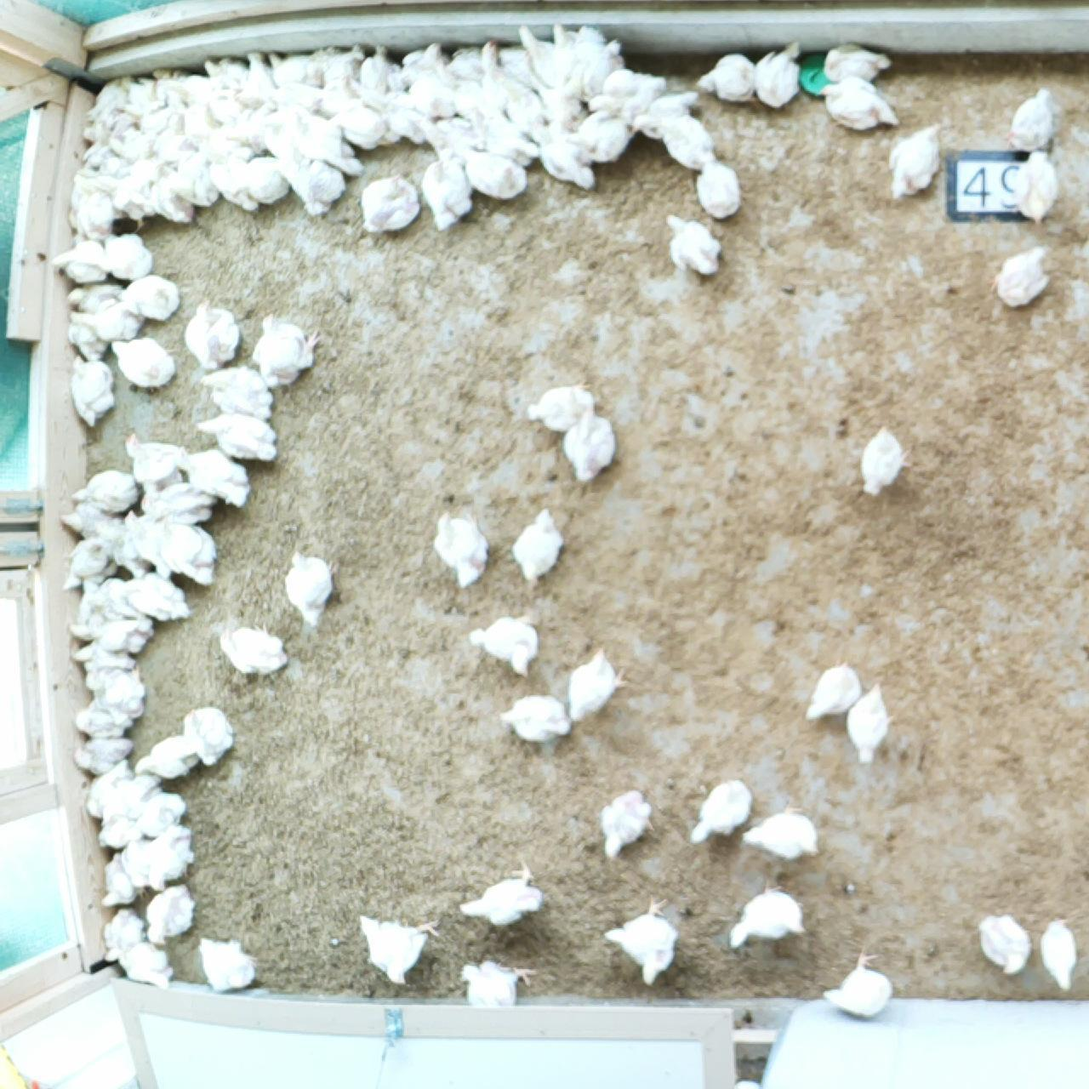chicken: (599, 893, 685, 995), (350, 900, 445, 985), (455, 853, 547, 939), (721, 871, 811, 956), (885, 116, 956, 209), (170, 442, 255, 513), (249, 311, 324, 391), (506, 500, 570, 592), (820, 943, 897, 1019), (465, 607, 542, 682), (683, 774, 760, 848), (430, 507, 496, 592), (567, 644, 634, 727), (741, 800, 826, 863), (596, 782, 659, 862), (583, 66, 669, 124), (282, 547, 344, 627), (818, 74, 902, 133), (531, 122, 596, 198), (421, 144, 475, 235), (212, 614, 292, 675), (199, 361, 275, 425), (457, 952, 542, 1009), (842, 678, 897, 766), (190, 930, 262, 996), (180, 295, 240, 374), (659, 207, 723, 281), (560, 404, 618, 485), (458, 141, 533, 203), (290, 110, 363, 173), (858, 419, 915, 498), (156, 518, 221, 587), (988, 239, 1053, 308), (1010, 144, 1062, 229), (976, 908, 1038, 979), (805, 651, 864, 725), (497, 692, 576, 746), (120, 432, 191, 492), (275, 154, 348, 212), (144, 875, 201, 949), (61, 350, 116, 426), (751, 35, 806, 111), (690, 149, 747, 221), (360, 173, 422, 239), (1003, 87, 1061, 157), (562, 39, 624, 102), (178, 703, 237, 769), (107, 335, 180, 388), (137, 481, 220, 527), (62, 616, 162, 654), (481, 100, 540, 164), (525, 376, 599, 427), (694, 51, 761, 107), (132, 729, 202, 782), (627, 88, 701, 138), (1038, 912, 1083, 994), (68, 299, 142, 347), (576, 109, 640, 164), (324, 93, 388, 148), (491, 66, 540, 136), (83, 751, 131, 822), (83, 666, 147, 719), (823, 38, 895, 85), (144, 824, 193, 893), (96, 172, 153, 231), (658, 109, 713, 170), (70, 465, 145, 509), (97, 907, 148, 971), (123, 575, 188, 625), (57, 537, 108, 600), (170, 147, 226, 204), (148, 170, 200, 231), (467, 35, 507, 114), (93, 847, 141, 910), (134, 790, 189, 844), (110, 506, 151, 578), (118, 277, 182, 323), (49, 237, 107, 287), (119, 941, 178, 989), (64, 731, 134, 771), (232, 47, 282, 103), (77, 71, 136, 118), (211, 153, 258, 212), (100, 233, 159, 279), (529, 73, 582, 123), (106, 775, 161, 823), (71, 171, 110, 238), (71, 694, 131, 737), (379, 87, 425, 143), (396, 40, 451, 86), (246, 153, 292, 207), (517, 24, 560, 79), (419, 115, 476, 156), (57, 502, 120, 539), (319, 40, 367, 88), (65, 640, 138, 671), (155, 111, 193, 168), (138, 88, 186, 132), (232, 102, 275, 151), (81, 574, 128, 618), (408, 70, 455, 113), (64, 280, 127, 312), (358, 45, 397, 94), (264, 79, 325, 110), (82, 105, 134, 141), (559, 26, 603, 67), (266, 49, 319, 83), (120, 838, 154, 888), (499, 43, 542, 82), (197, 131, 250, 162), (93, 815, 138, 851), (66, 321, 107, 360), (447, 44, 486, 80), (452, 75, 485, 117), (204, 57, 250, 85), (107, 131, 150, 160), (183, 94, 212, 130), (204, 93, 238, 121), (79, 141, 109, 172), (178, 70, 212, 96), (132, 74, 162, 102), (128, 154, 157, 178), (100, 155, 126, 177), (148, 228, 151, 228)
